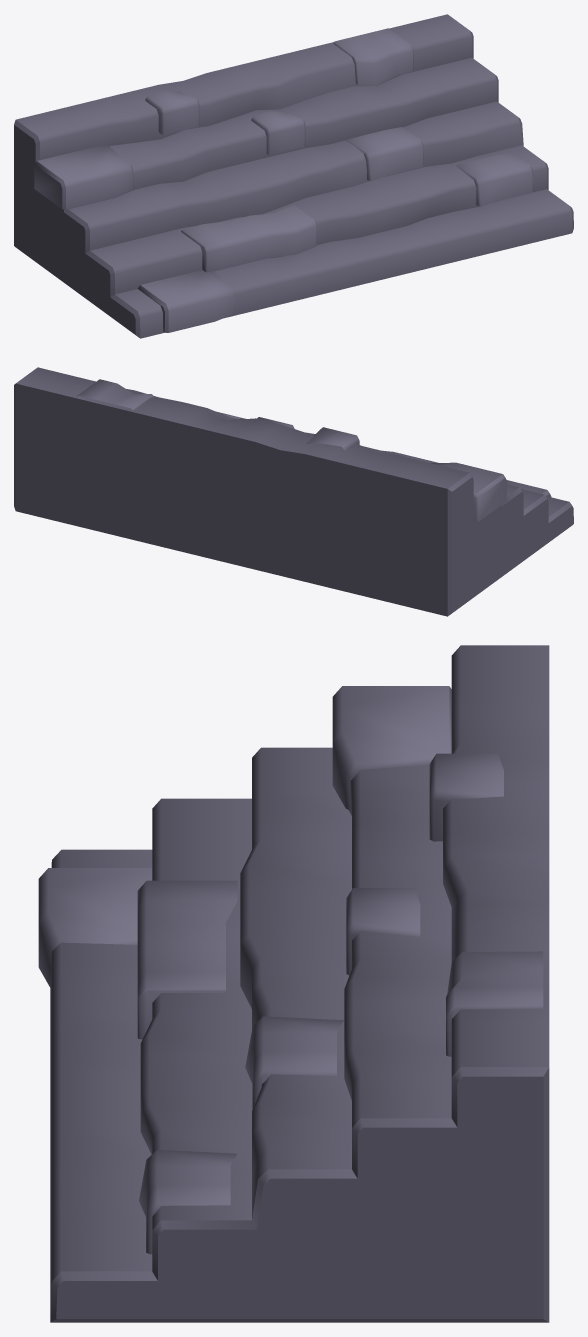
Rendered from Stone_Stairs.fbx.
3 renders of one model, top to bottom at view 1: azimuth 30°, elevation 25°; view 2: azimuth 150°, elevation 25°; view 3: azimuth 270°, elevation 25°, orthographic. The views are drawn at different scales.
Parts seen in each view (by area): view 1: Stairway; view 2: Stairway; view 3: Stairway.
Part boxes in pixels (<box>): Stairway: <box>14,14,573,338</box>; Stairway: <box>14,367,573,616</box>; Stairway: <box>38,645,549,1322</box>.
Bounding box in the file's own units: 1244 × 354 × 623.
